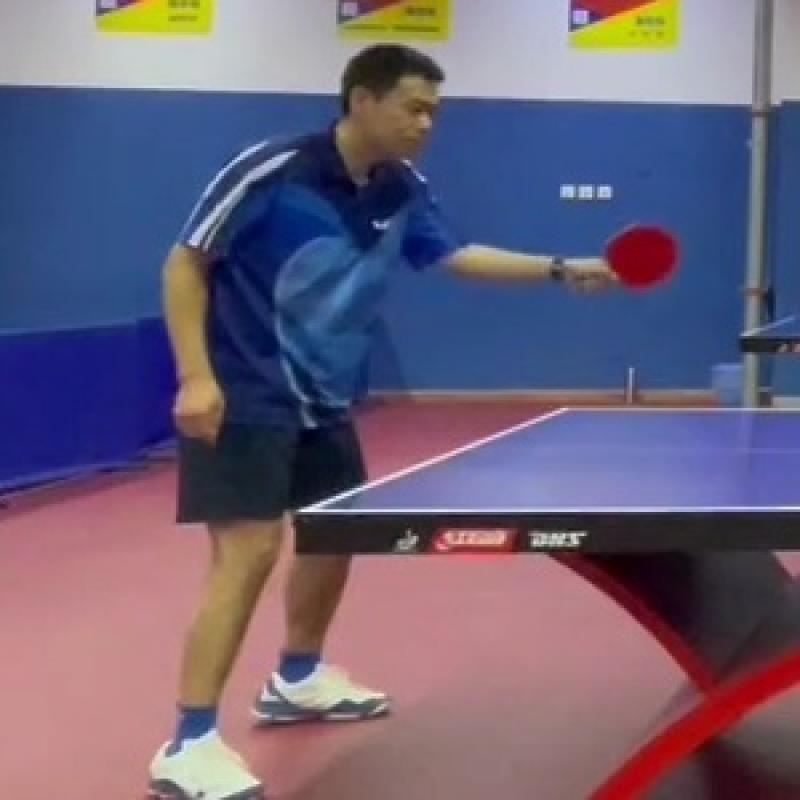bats: (597, 215, 688, 302)
